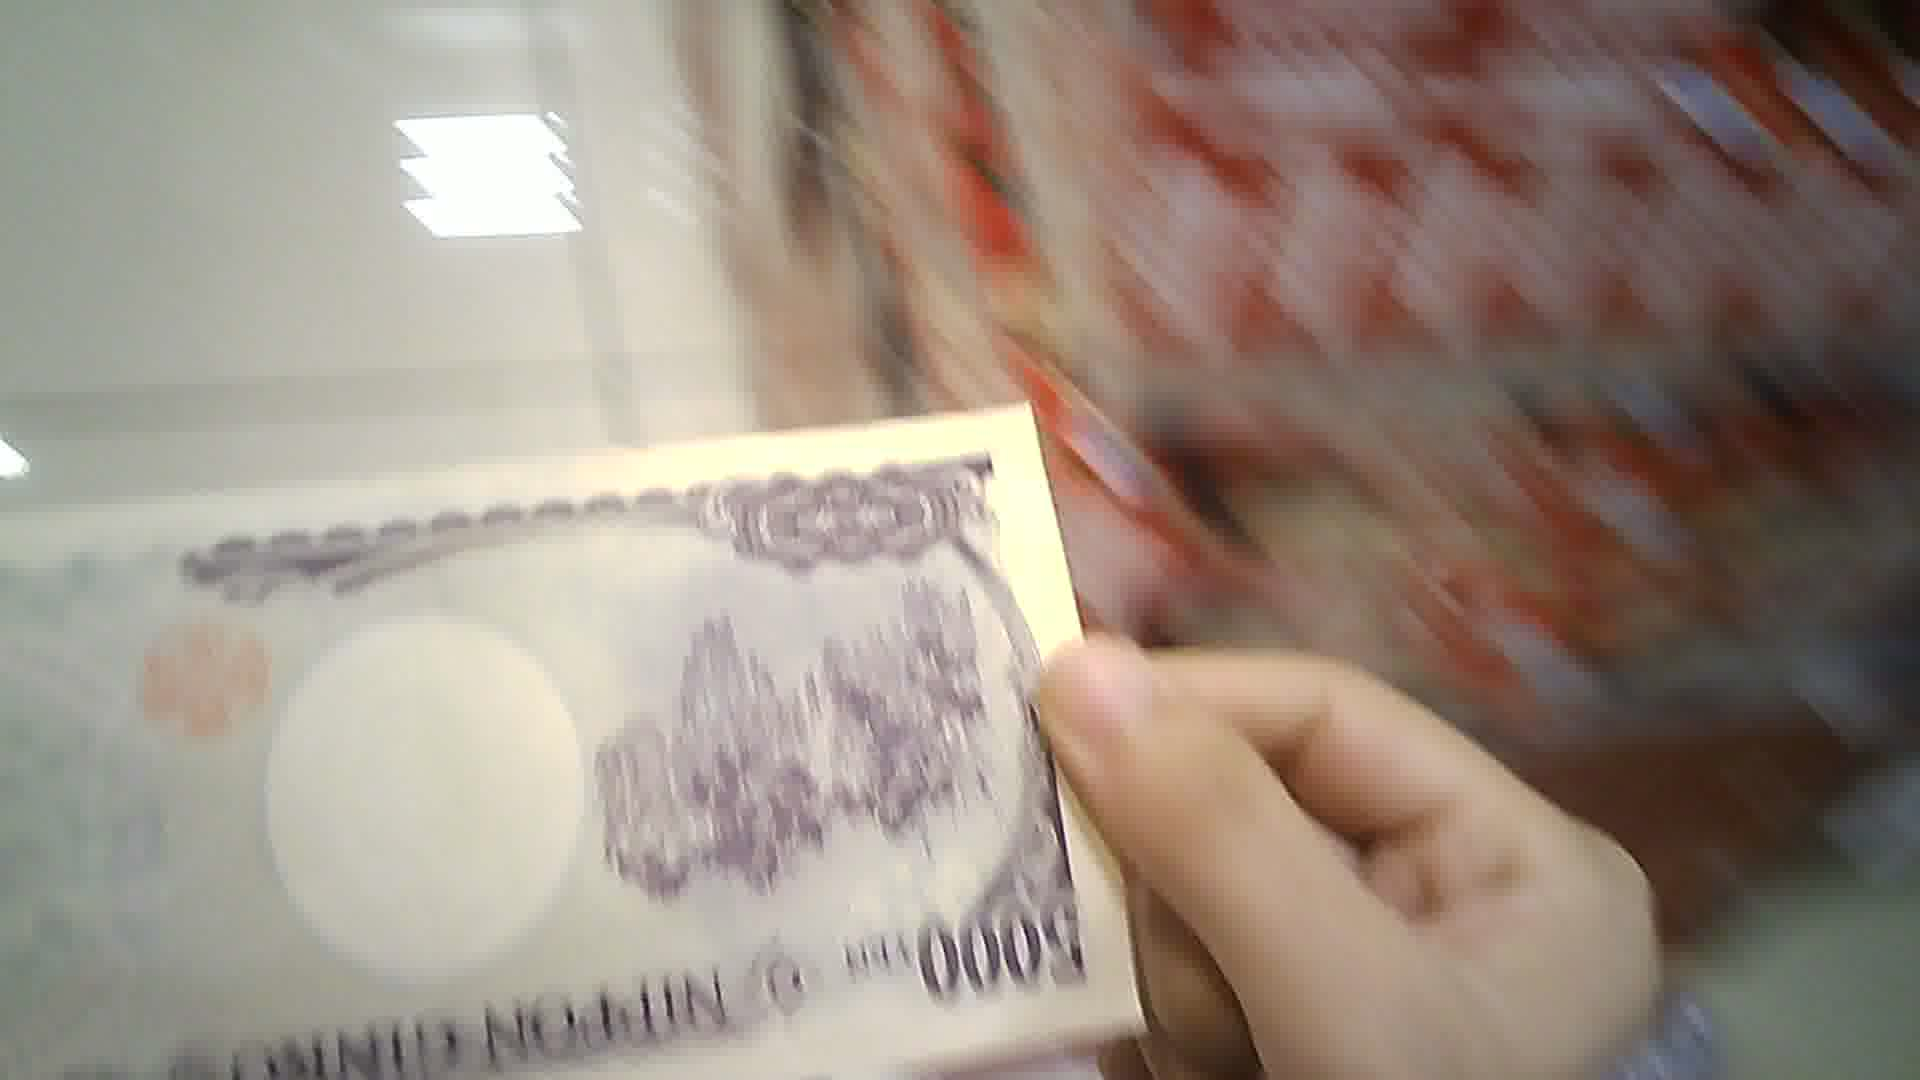5,000 Yen: (3, 427, 1146, 1054)
